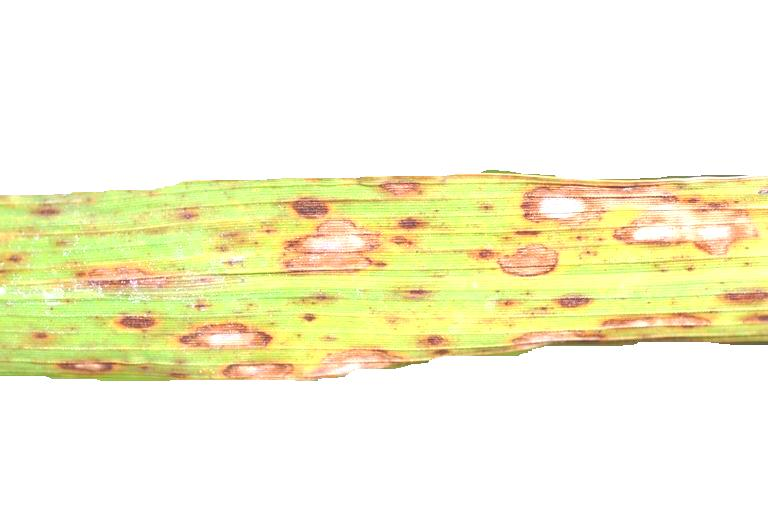0 BrownSpot: (503, 306, 729, 351), (275, 202, 403, 274), (603, 194, 754, 253), (49, 256, 230, 297), (473, 227, 585, 285), (505, 169, 610, 225), (309, 335, 418, 380), (54, 353, 193, 385), (173, 315, 280, 348), (222, 353, 300, 384), (718, 279, 768, 326), (101, 303, 169, 336), (284, 189, 341, 220), (548, 284, 602, 313), (418, 327, 458, 362), (368, 179, 432, 196), (29, 199, 71, 221), (396, 277, 439, 298), (24, 325, 63, 346)
